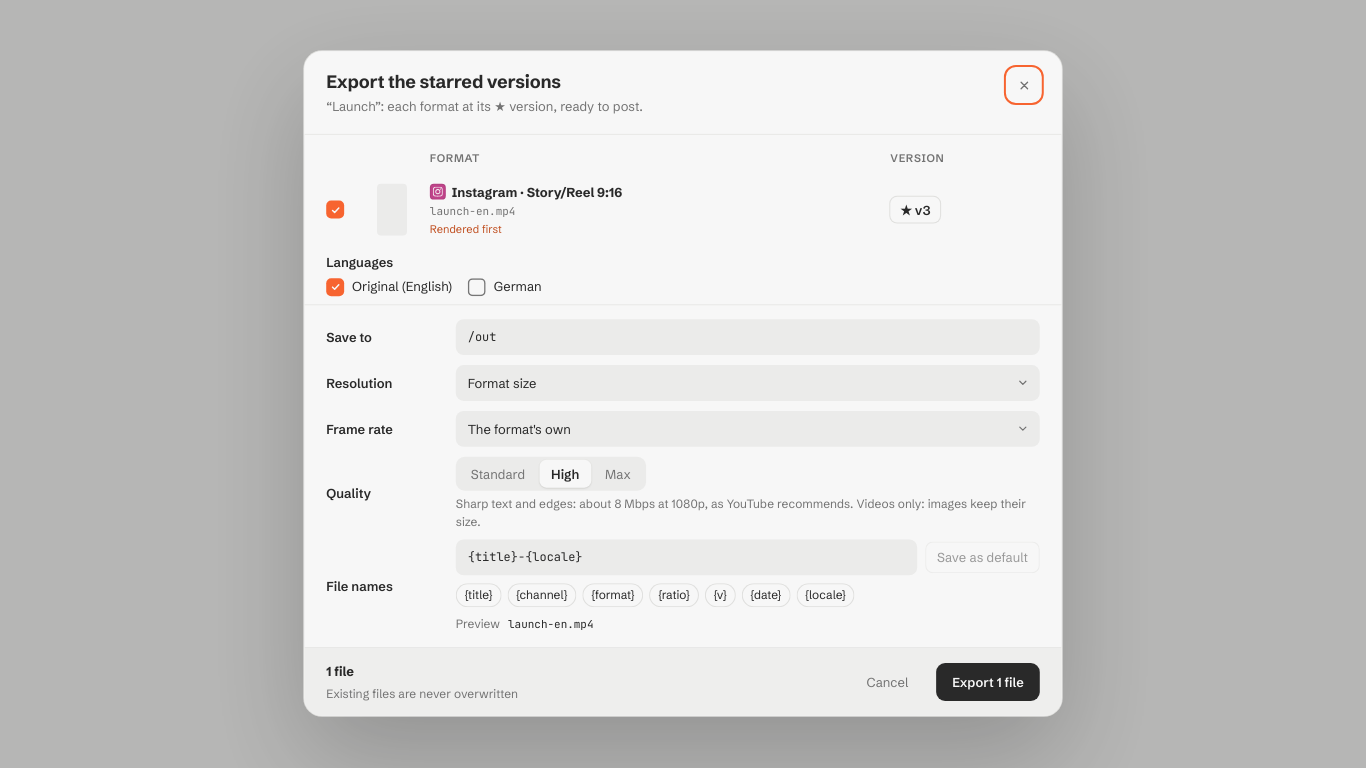
Export in several languages › a pattern with {locale} names the original with the primary tag and each translation with its own, as the core does
The image size is (1366, 768).
Click the checkbox named "German": (476, 287) [467,278,485,296]
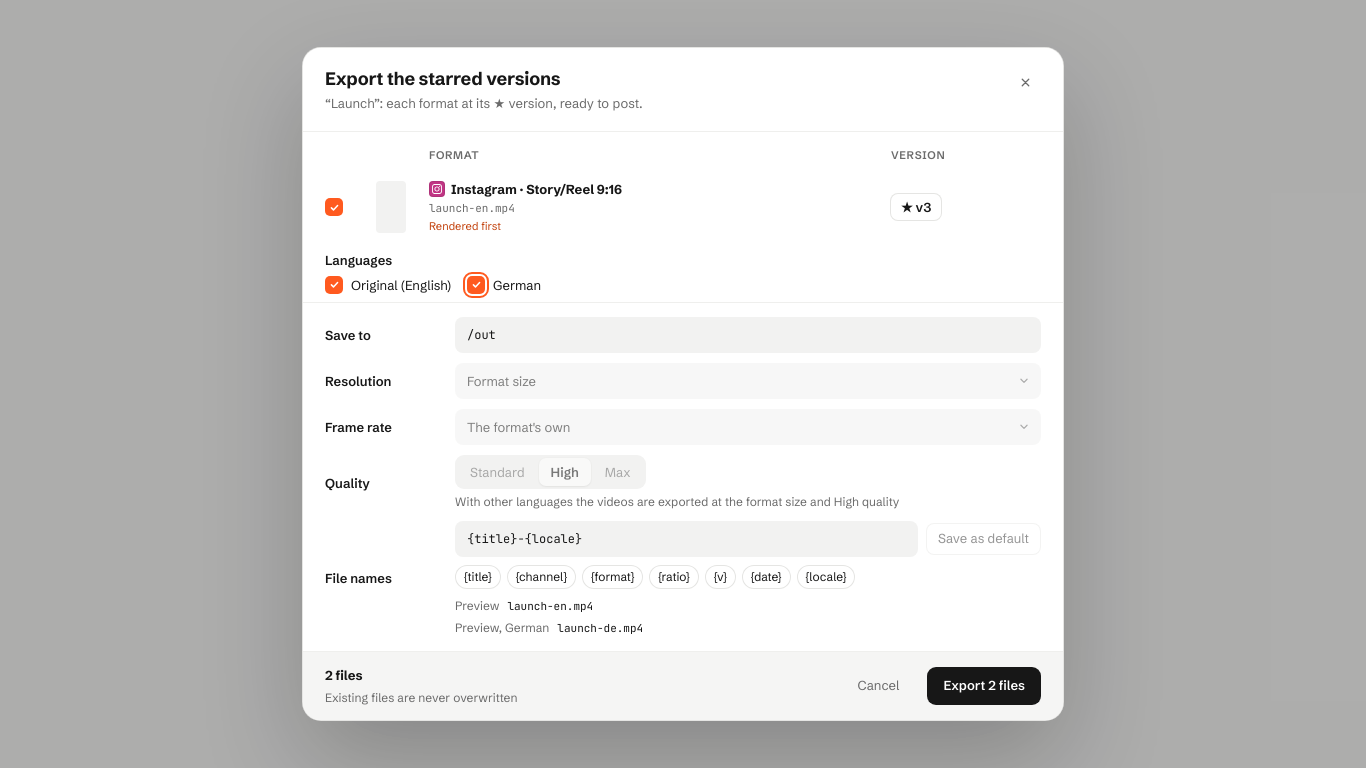
Expected: the text "launch-en.mp4" below "File names" is shown, [507,599,593,613]
Now the text "launch-de.mp4" is shown, box [557,621,643,637]
